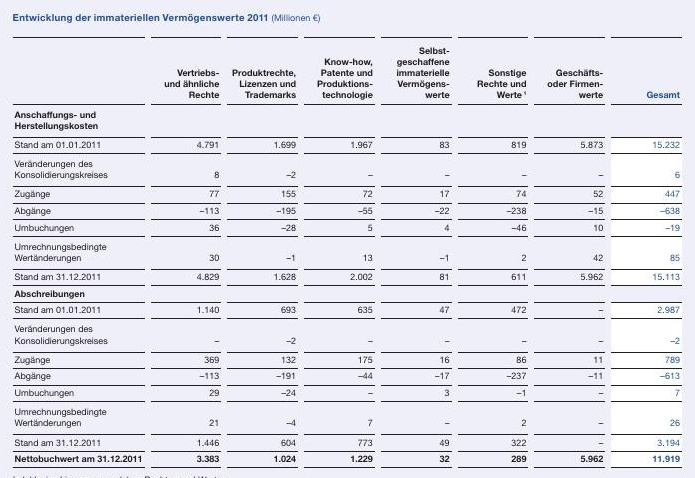table: (0, 0, 695, 478)
